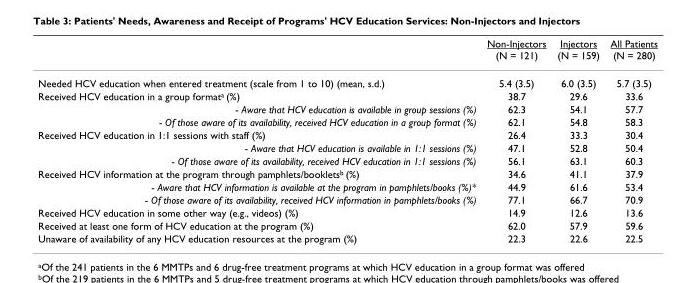table: (37, 37, 657, 244)
table column: (37, 37, 480, 244), (480, 37, 551, 244), (551, 37, 604, 244), (604, 37, 657, 244)
table column header: (37, 37, 657, 68)
table row: (37, 37, 657, 68), (37, 68, 657, 89), (37, 89, 657, 102), (37, 102, 657, 115), (37, 115, 657, 128), (37, 128, 657, 141), (37, 153, 657, 166), (37, 166, 657, 179), (37, 179, 657, 192), (37, 192, 657, 205), (37, 205, 657, 218), (37, 218, 657, 231), (37, 231, 657, 244), (37, 141, 657, 153)
